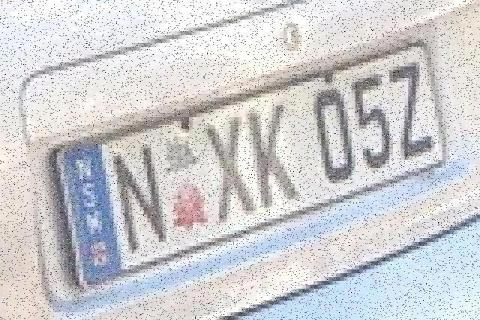LicensePlate: (34, 38, 453, 288)
